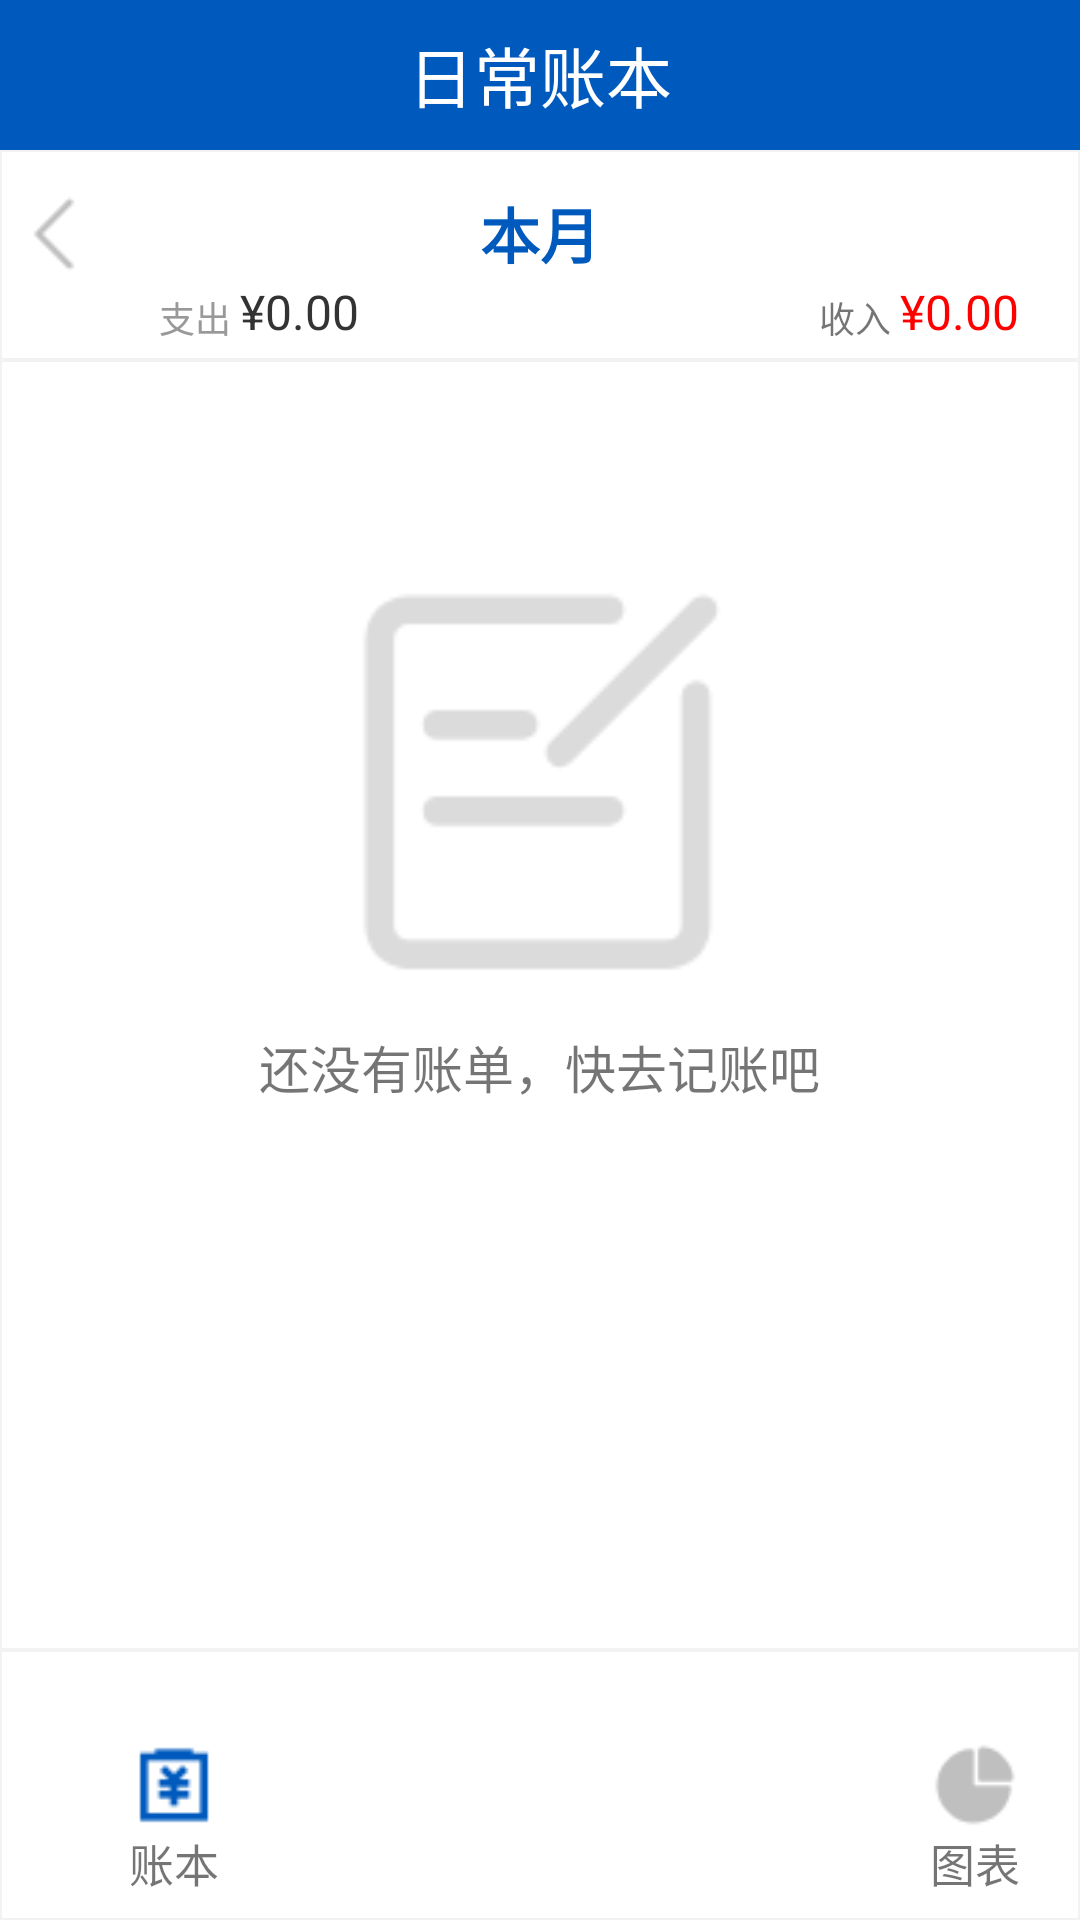

Where icons sit on this 1080*1920 app screen, as BBox(x1, y1, x2, y2):
payment: BBox(139, 1747, 209, 1823)
